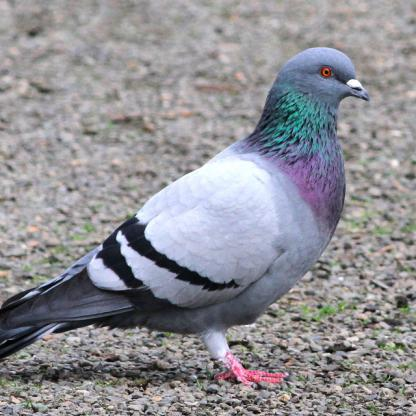Rock Pigeon: (2, 43, 370, 358)
